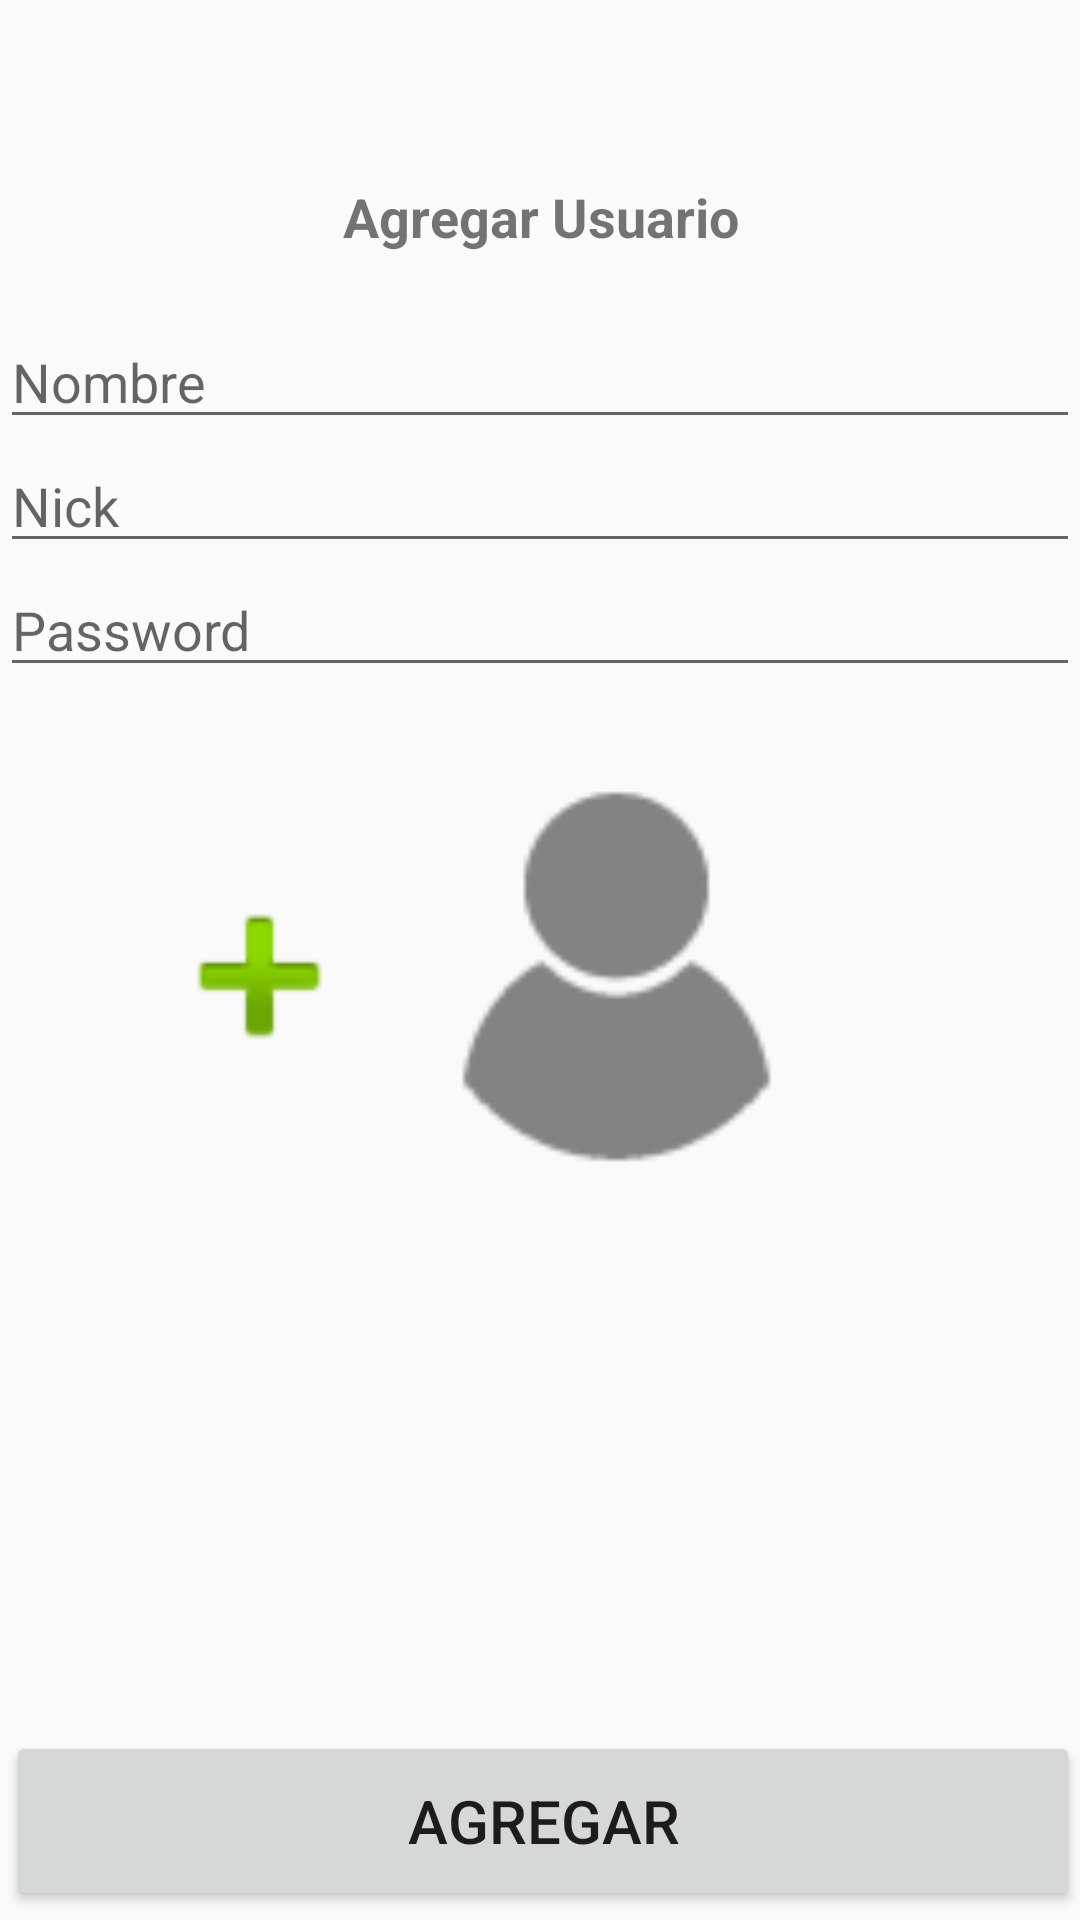

Where to tap for icons on this 1080 x 1920 app screen, as [x,y]:
add: [259,976]
